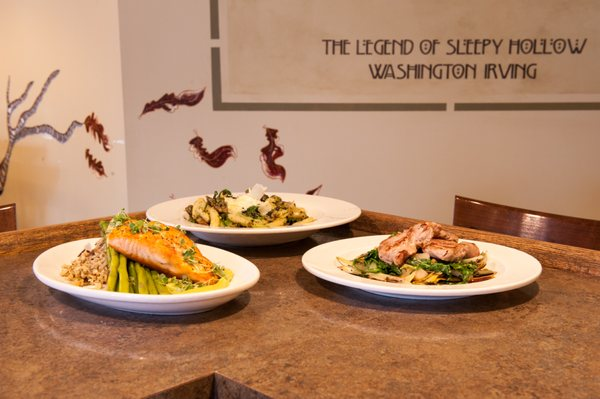soup: (104, 216, 229, 295)
